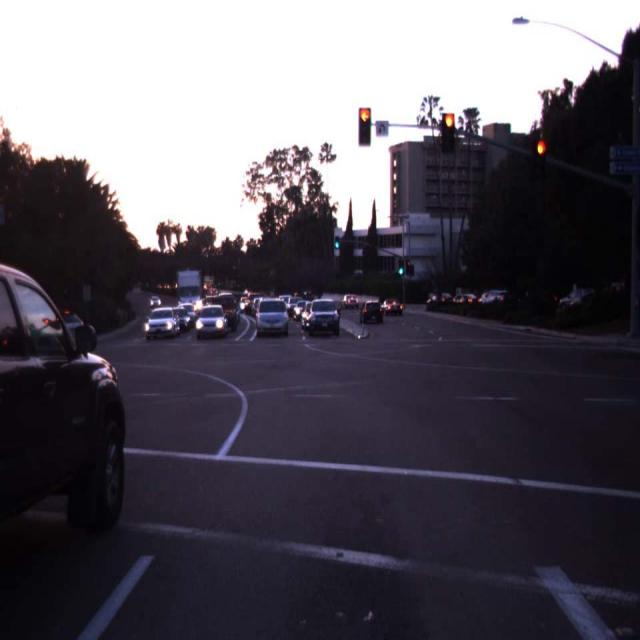kirmizi: (441, 114, 455, 152)
